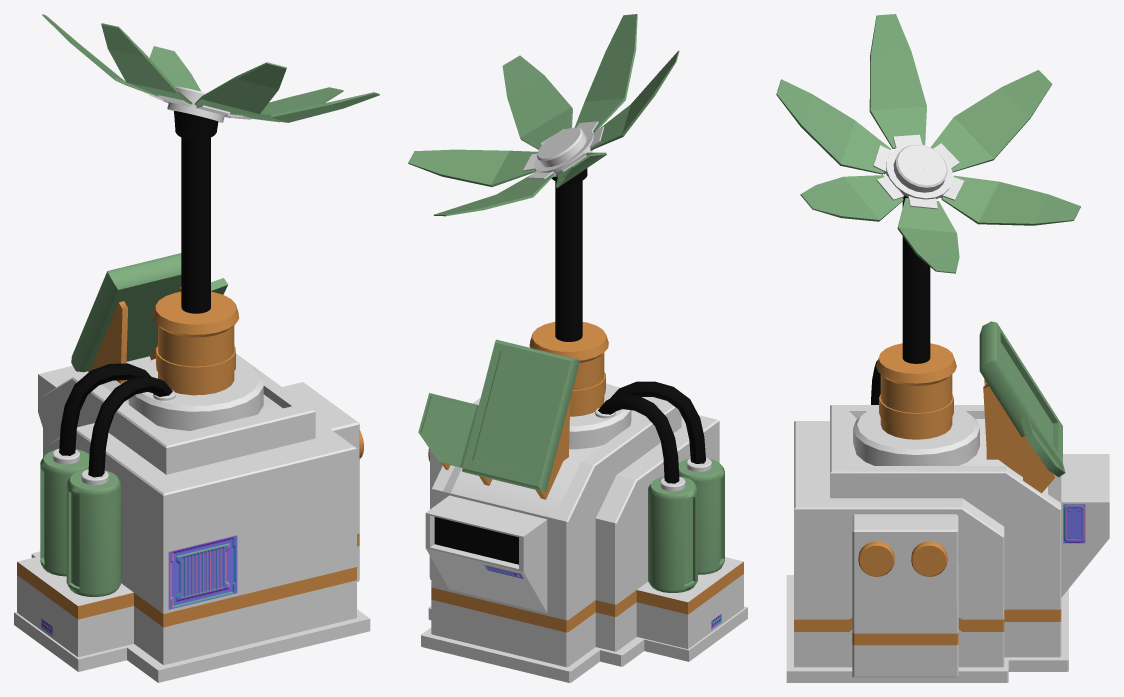
The model's file is S_Checkpoint.fbx.
3 views of the same model, side by side, from view 1: azimuth 30°, elevation 25°; view 2: azimuth 150°, elevation 25°; view 3: azimuth 270°, elevation 25° (orthographic). The views are drawn at different scales.
Visible parts, largest first — view 1: Checkpoint, Trim_Grille; view 2: Checkpoint; view 3: Checkpoint, Trim_Plaquette.
Part boxes in pixels (<box>): Checkpoint: <box>14,14,379,682</box>; Trim_Grille: <box>168,535,237,609</box>; Checkpoint: <box>408,14,747,682</box>; Checkpoint: <box>776,14,1109,682</box>; Trim_Plaquette: <box>1063,504,1085,543</box>.
Bounding box in the file's own units: 156 × 294 × 154.
Materials: 5 (1 with a texture image).
